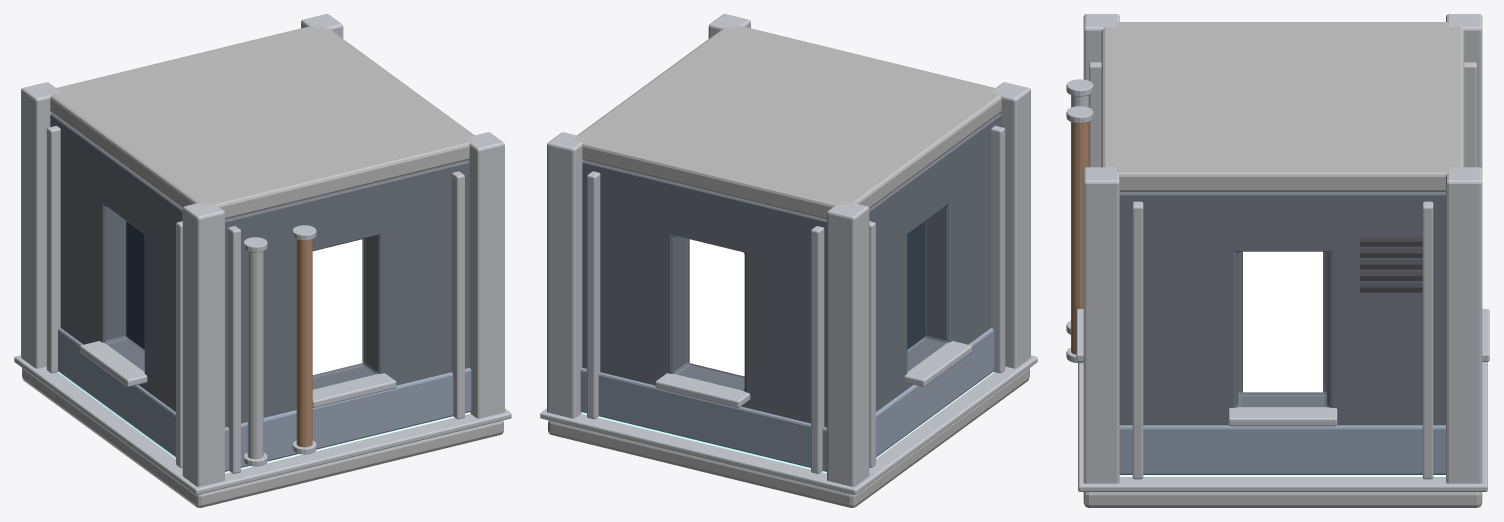
The model's file is office_2x2.glb.
The picture shows the model from 3 angles, left to right: view 1: azimuth 30°, elevation 25°; view 2: azimuth 150°, elevation 25°; view 3: azimuth 270°, elevation 25°; orthographic projection. The views are drawn at different scales.
Visible parts, largest first — view 1: ext_wall, int_ceiling, int_columns, ext_frames, ext_spandrel, int_slab_edge, int_slab, ext_panes_lit, ext_pipe1, ext_pipe0, ext_panes_dark, int_grid; view 2: ext_wall, int_ceiling, int_columns, ext_frames, ext_spandrel, int_slab_edge, ext_panes_lit, int_slab, ext_panes_dark, int_grid; view 3: int_ceiling, ext_wall, int_columns, ext_spandrel, ext_frames, ext_panes_lit, int_slab_edge, int_slab, ext_vent, ext_pipe1, int_grid.
Boxes of the visible parts, x1,y1,x2,y2 form: ext_wall: (50,113,469,427); int_ceiling: (47,24,478,219); int_columns: (21,14,504,486); ext_frames: (46,125,464,473); ext_spandrel: (58,328,471,471); int_slab_edge: (14,355,511,494); int_slab: (22,368,503,507); ext_panes_lit: (312,239,362,374); ext_pipe1: (296,239,312,447); ext_pipe0: (247,251,263,459); ext_panes_dark: (126,221,144,349); int_grid: (57,372,470,473); ext_wall: (582,113,1001,427); int_ceiling: (573,24,1001,219); int_columns: (547,14,1030,486); ext_frames: (587,125,1005,473); ext_spandrel: (580,328,993,471); int_slab_edge: (540,355,1037,494); ext_panes_lit: (689,239,744,376); int_slab: (548,368,1029,507); ext_panes_dark: (907,221,925,349); int_grid: (581,372,994,473); int_ceiling: (1101,22,1464,191); ext_wall: (1119,192,1445,425); int_columns: (1083,14,1482,483); ext_spandrel: (1119,425,1445,474); ext_frames: (1076,62,1489,479); ext_panes_lit: (1243,251,1322,392); int_slab_edge: (1078,362,1487,491); int_slab: (1083,492,1482,507); ext_vent: (1360,237,1422,292); ext_pipe1: (1071,122,1088,354); int_grid: (1119,475,1445,476).
Size of the model in its own units: 2.28 by 2 by 2.33.
